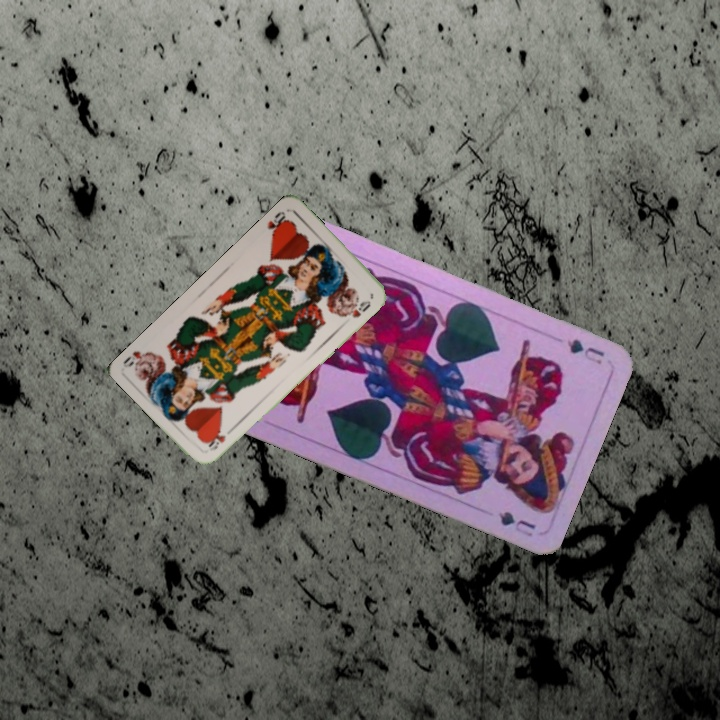GU: (562, 334, 607, 367)
HO: (204, 423, 237, 454), (263, 207, 291, 238)
